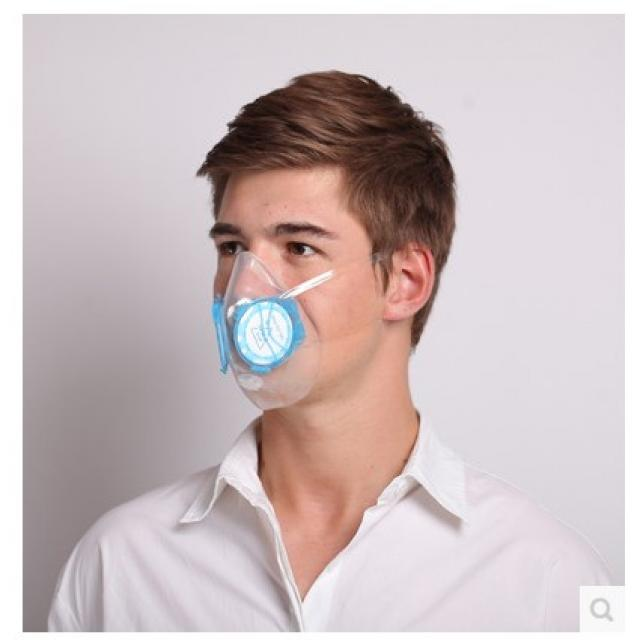mask: (212, 160, 382, 400)
